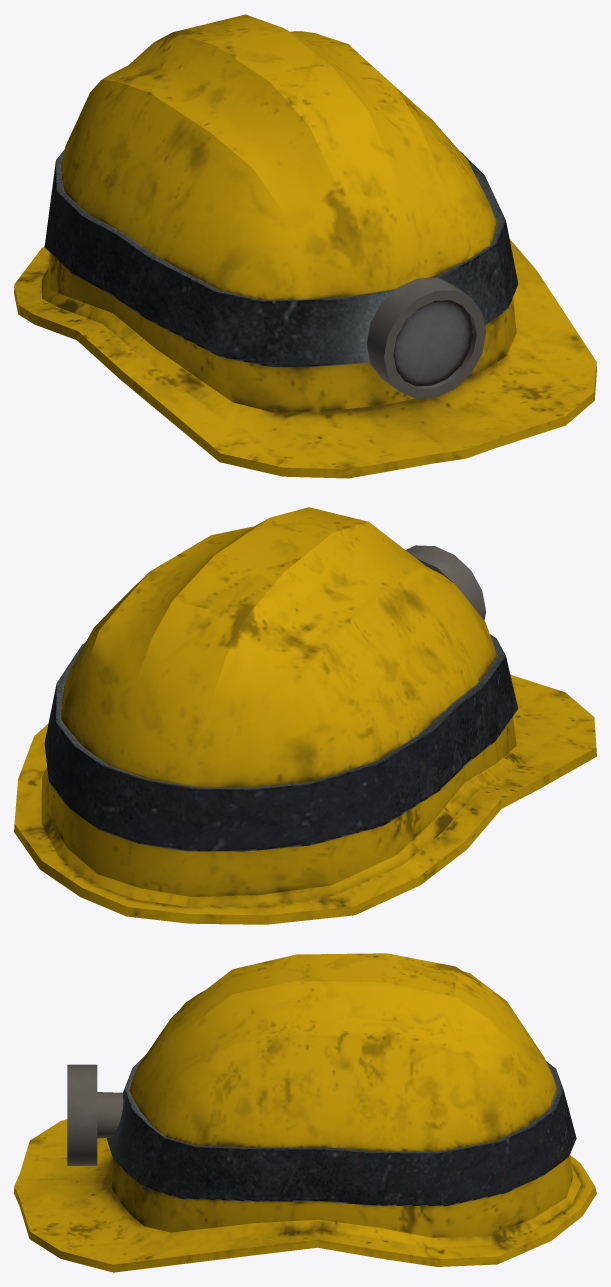
File: Miner's hat.fbx
3 views of the same model, one above another, from view 1: azimuth 30°, elevation 25°; view 2: azimuth 150°, elevation 25°; view 3: azimuth 270°, elevation 25° (orthographic). The views are drawn at different scales.
Visible parts, largest first — view 1: Chapeu de minerador; view 2: Chapeu de minerador; view 3: Chapeu de minerador.
Boxes of the visible parts, x1=… form: Chapeu de minerador: x1=14, y1=14, x2=596, y2=478; Chapeu de minerador: x1=14, y1=507, x2=596, y2=924; Chapeu de minerador: x1=14, y1=953, x2=596, y2=1272.
Bounding box in the file's own units: 24.18 × 14.17 × 32.86.
Materials: 1 (1 with a texture image).
